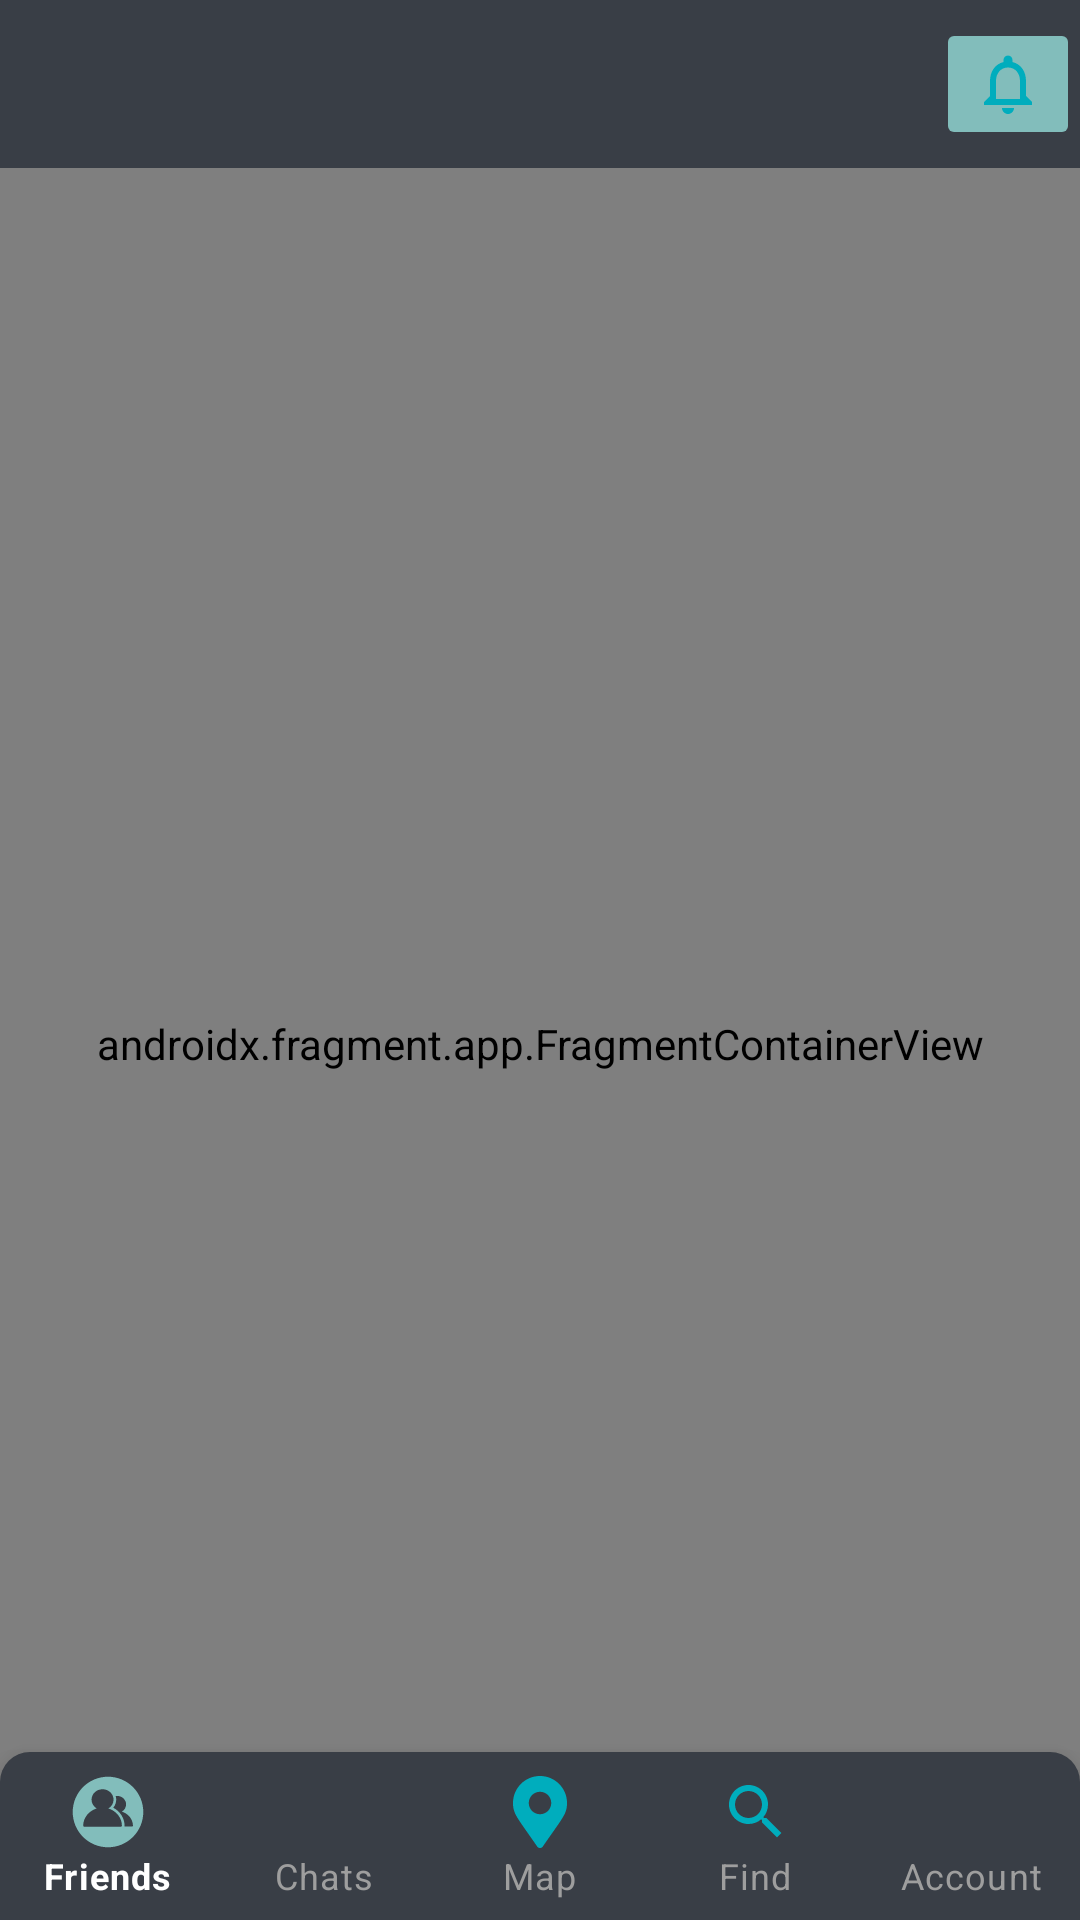

Icon click points for this 1080*1920 phone screenshot, format (x,y):
notifications none: (1008,84)
